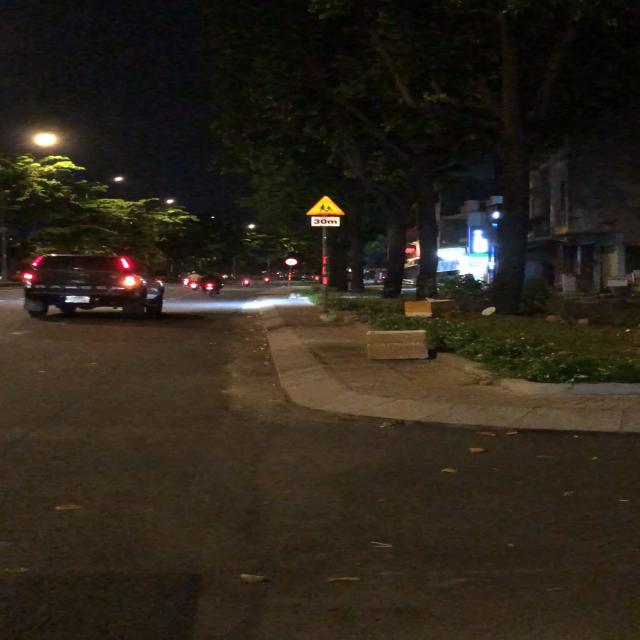Bien bao tre em: (303, 193, 347, 217)
